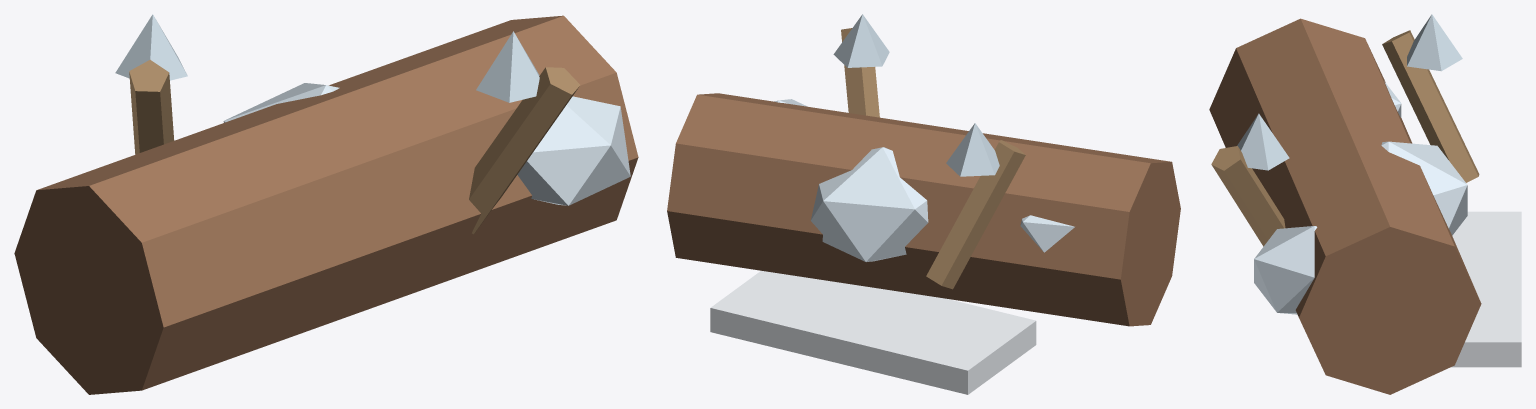
Rendered from frozen_log.glb.
3 renders of one model, left to right at view 1: azimuth 30°, elevation 25°; view 2: azimuth 150°, elevation 25°; view 3: azimuth 270°, elevation 25°, orthographic. The views are drawn at different scales.
Visible parts, largest first — view 1: log, ice_coat_2, branch_1, branch_0, frost_1, frost_0, ice_coat_1; view 2: log, snow_patch, ice_coat_1, branch_0, frost_1, frost_0, branch_1, ice_coat_0; view 3: log, snow_patch, branch_0, ice_coat_2, branch_1, ice_coat_1, frost_0, frost_1.
Boxes of the visible parts, x1=… form: log: x1=14, y1=15, x2=638, y2=394; ice_coat_2: x1=517, y1=96, x2=630, y2=205; branch_1: x1=469, y1=67, x2=580, y2=234; branch_0: x1=129, y1=59, x2=174, y2=154; frost_1: x1=476, y1=31, x2=539, y2=102; frost_0: x1=115, y1=14, x2=187, y2=80; ice_coat_1: x1=223, y1=83, x2=339, y2=122; log: x1=667, y1=93, x2=1180, y2=326; snow_patch: x1=710, y1=270, x2=1036, y2=394; ice_coat_1: x1=810, y1=147, x2=928, y2=261; branch_0: x1=926, y1=140, x2=1025, y2=289; frost_1: x1=833, y1=14, x2=889, y2=67; frost_0: x1=946, y1=123, x2=999, y2=176; branch_1: x1=841, y1=28, x2=879, y2=117; ice_coat_0: x1=1020, y1=215, x2=1074, y2=252; log: x1=1209, y1=18, x2=1481, y2=394; snow_patch: x1=1451, y1=211, x2=1521, y2=367; branch_0: x1=1382, y1=30, x2=1479, y2=182; ice_coat_2: x1=1254, y1=226, x2=1317, y2=314; branch_1: x1=1211, y1=146, x2=1285, y2=246; ice_coat_1: x1=1381, y1=141, x2=1467, y2=235; frost_0: x1=1407, y1=14, x2=1462, y2=71; frost_1: x1=1237, y1=113, x2=1289, y2=170.
Bounding box in the file's own units: 1.7 × 0.86 × 1.01.
